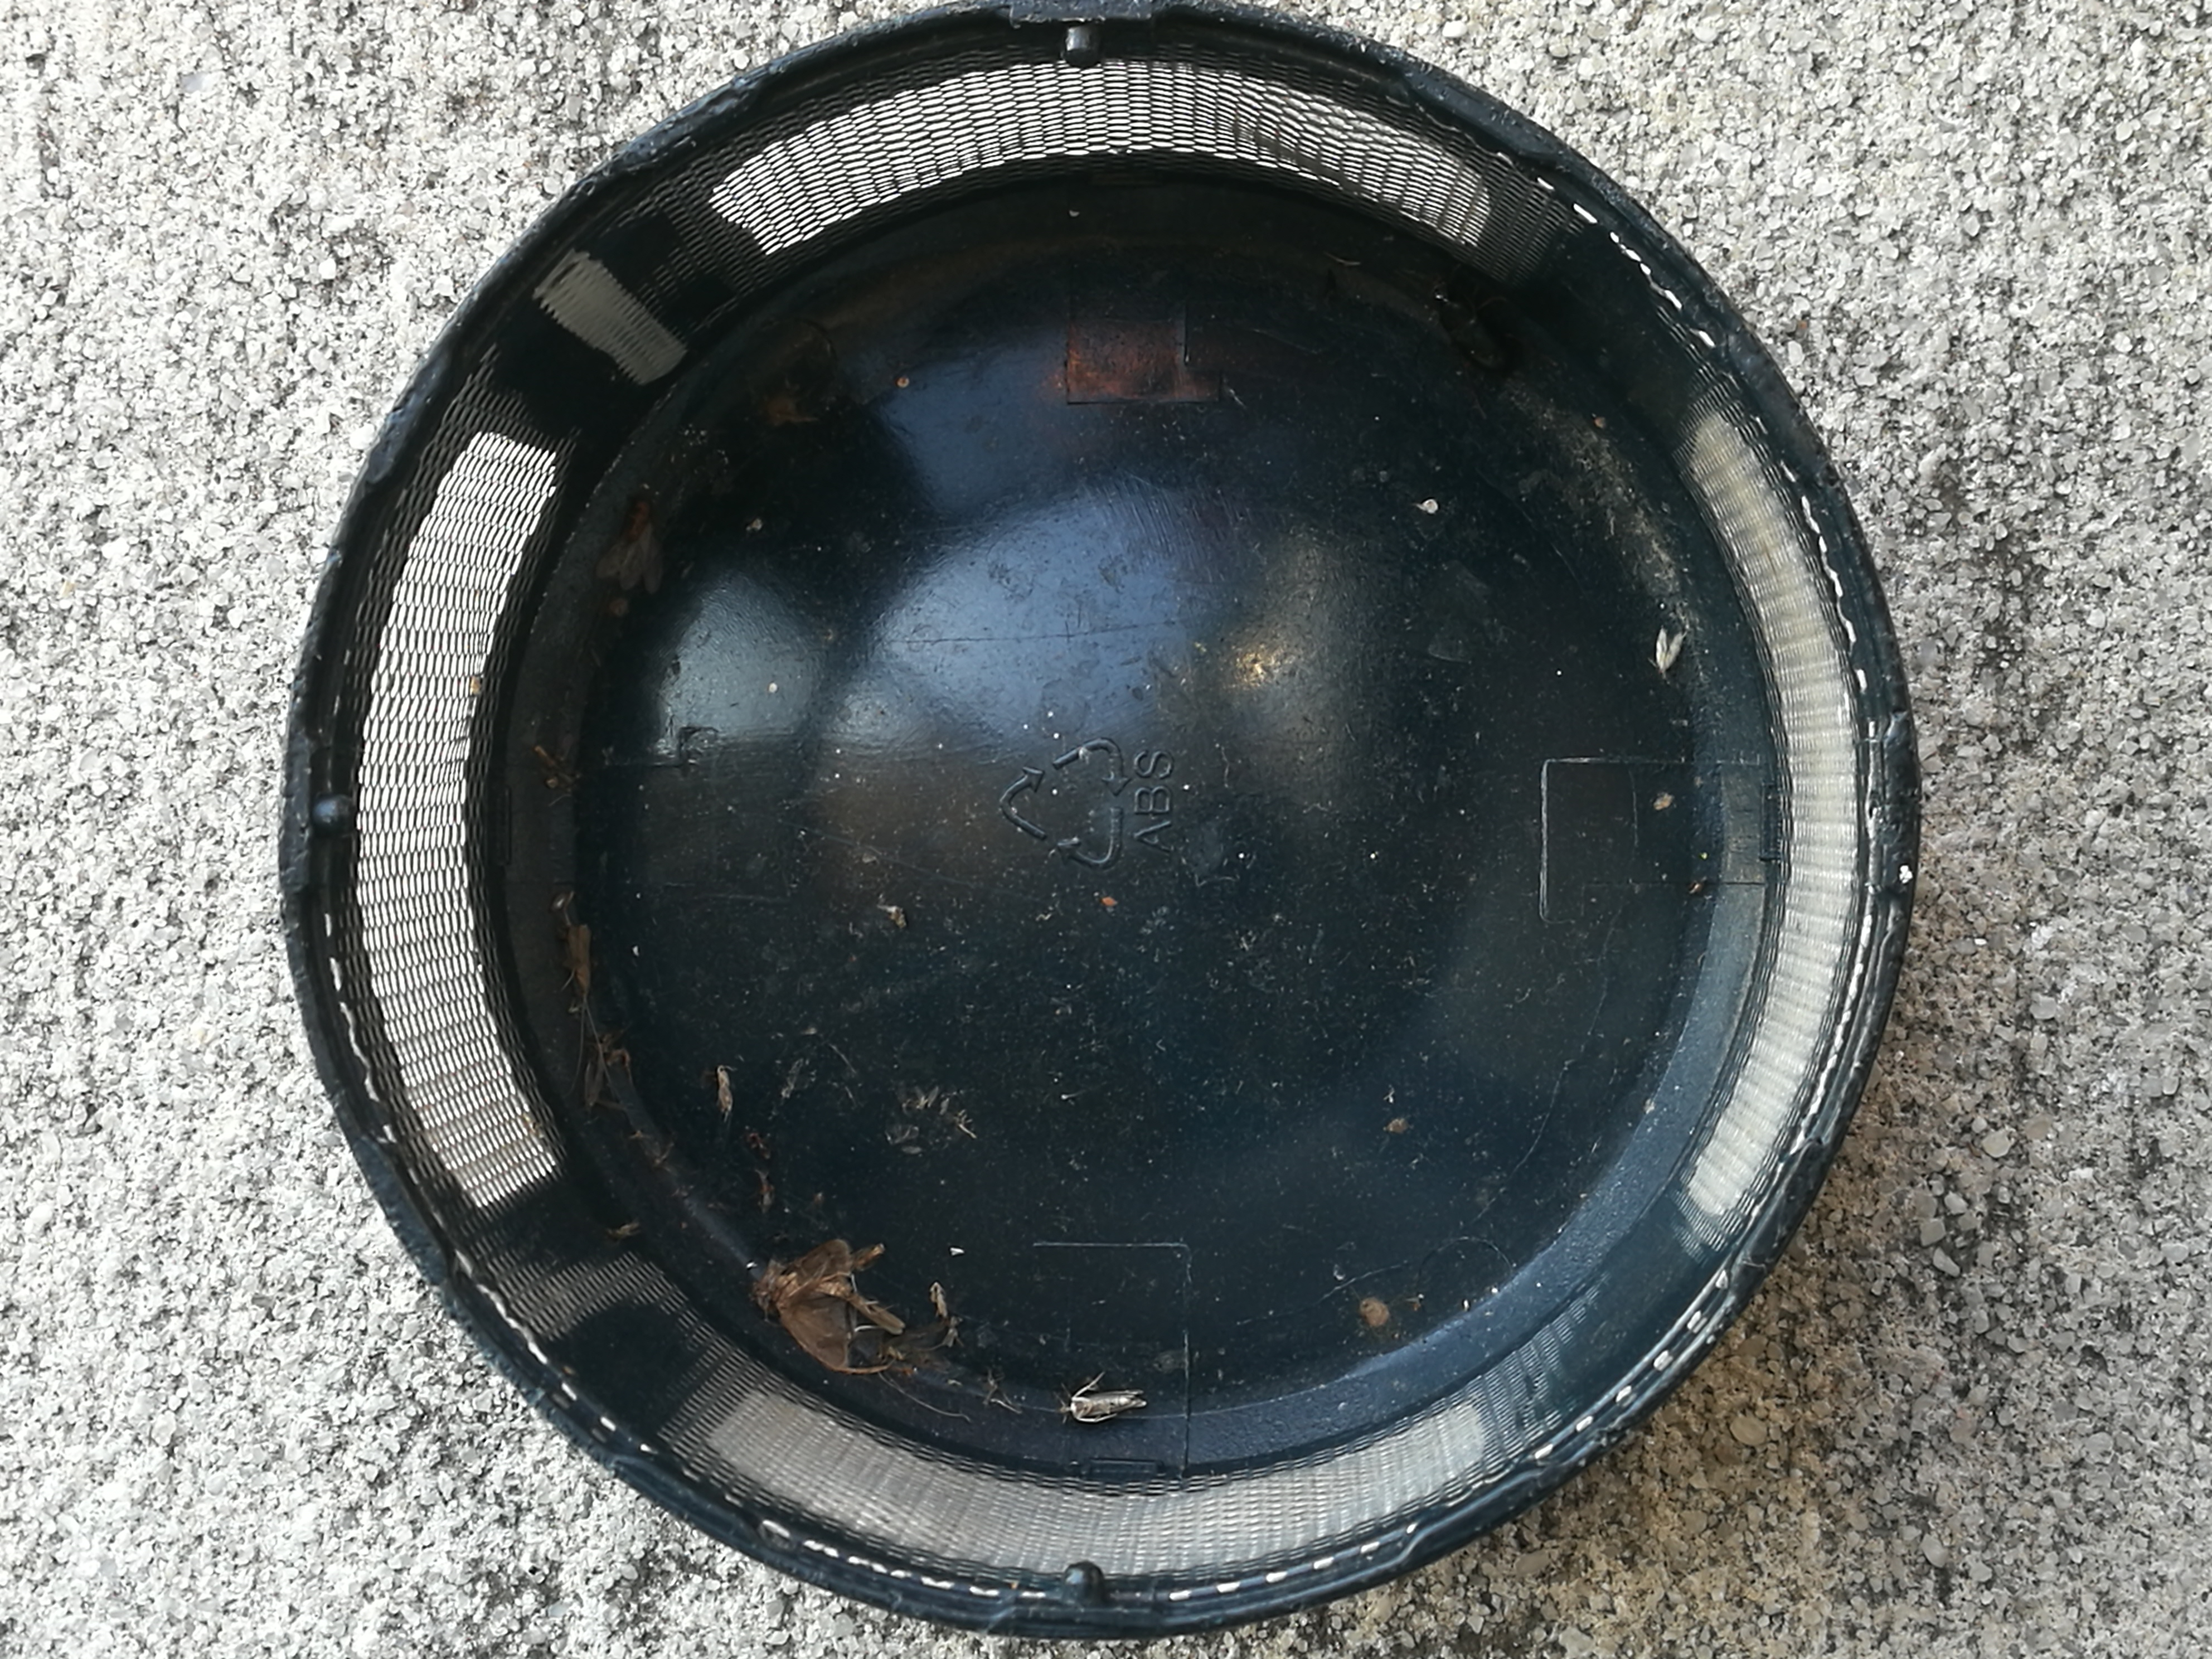beetle: (1435, 282, 1524, 371)
mosquito: (1064, 1387, 1146, 1419), (853, 1295, 906, 1333), (568, 925, 590, 995), (716, 1065, 732, 1115)
moth: (758, 1239, 848, 1370), (597, 500, 662, 592), (1656, 626, 1684, 671)
